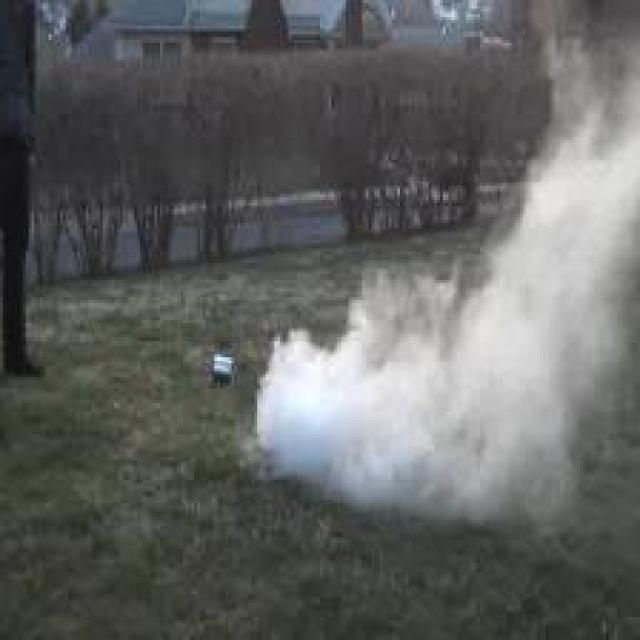Smoke: (255, 57, 640, 525)
